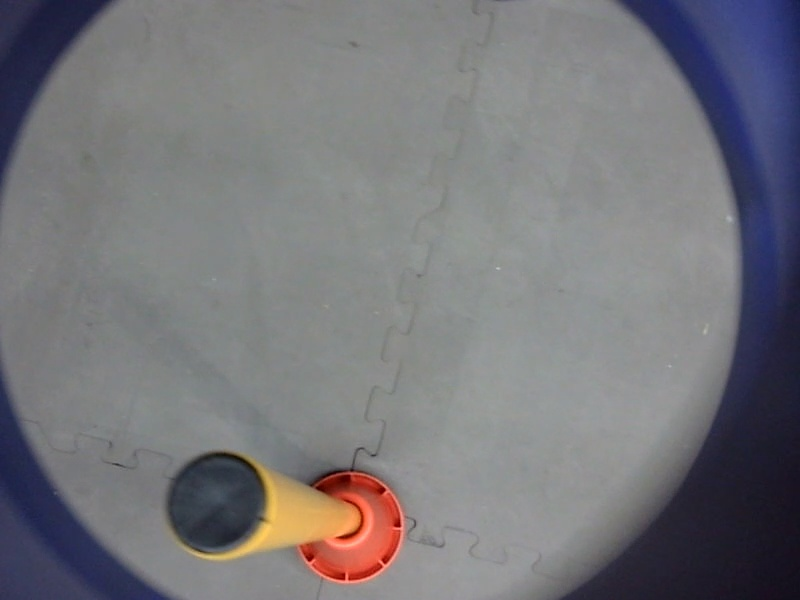tip: (157, 442, 278, 565)
